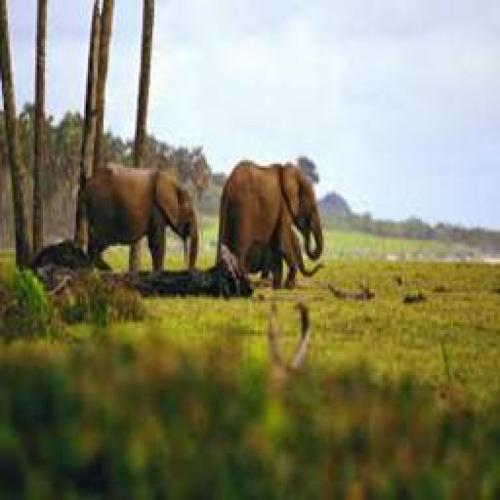african_elephant-endangered: (74, 162, 200, 276), (216, 157, 322, 290)
